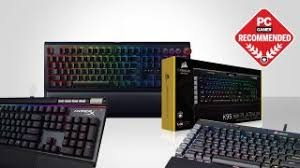keyboard: (38, 40, 189, 106), (0, 104, 105, 168), (171, 119, 300, 168)
